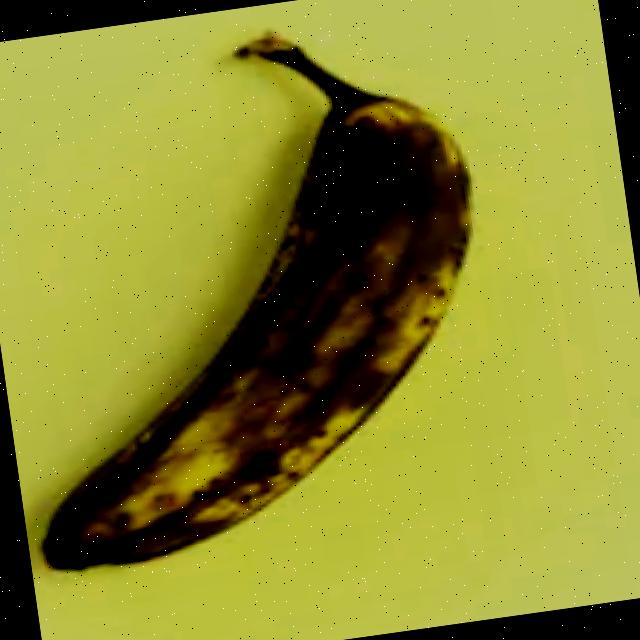Rotten: (0, 0, 537, 595)
